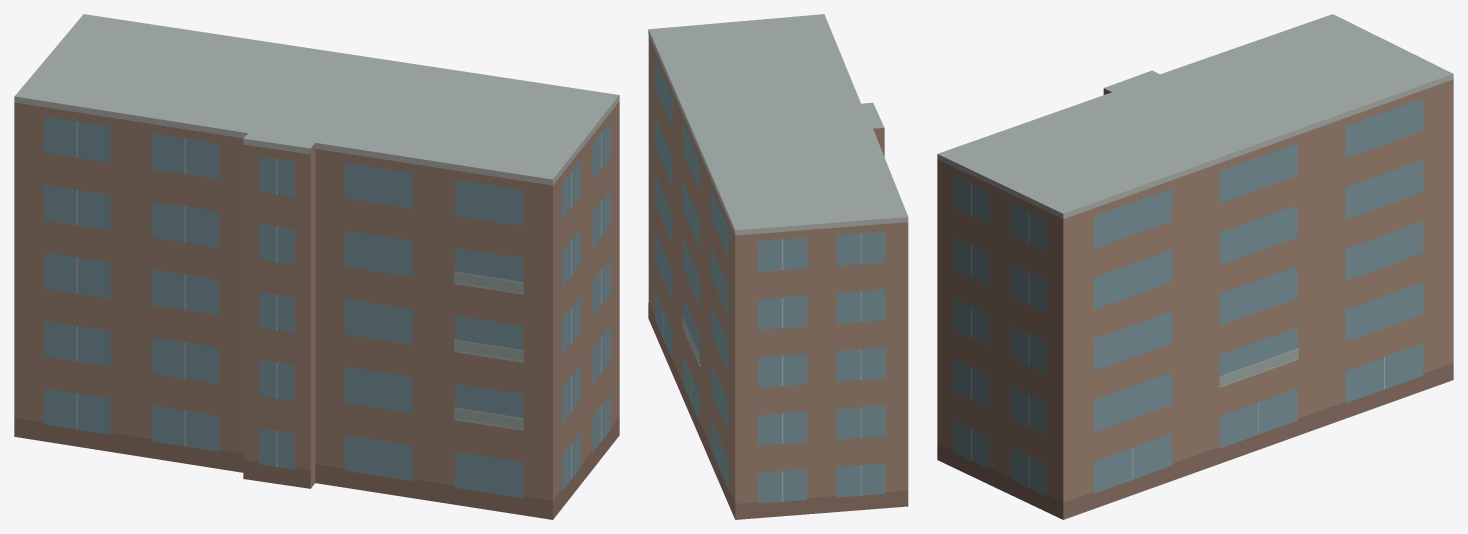
Rendered from survey-upis-32629293.glb.
3 renders of one model, left to right at view 1: azimuth 30°, elevation 25°; view 2: azimuth 150°, elevation 25°; view 3: azimuth 270°, elevation 25°, orthographic. The views are drawn at different scales.
Parts seen in each view (by area): view 1: survey-upis-32629293.tmp; view 2: survey-upis-32629293.tmp; view 3: survey-upis-32629293.tmp.
Boxes of the visible parts, x1=… form: survey-upis-32629293.tmp: x1=14, y1=14, x2=619, y2=519; survey-upis-32629293.tmp: x1=648, y1=14, x2=908, y2=519; survey-upis-32629293.tmp: x1=937, y1=14, x2=1453, y2=519.
Size of the model in its own units: 19.47 by 13.9 by 21.26.
